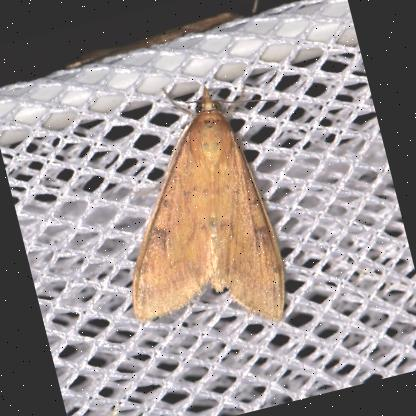Asian Corn Borer Moth: (79, 57, 335, 360)
